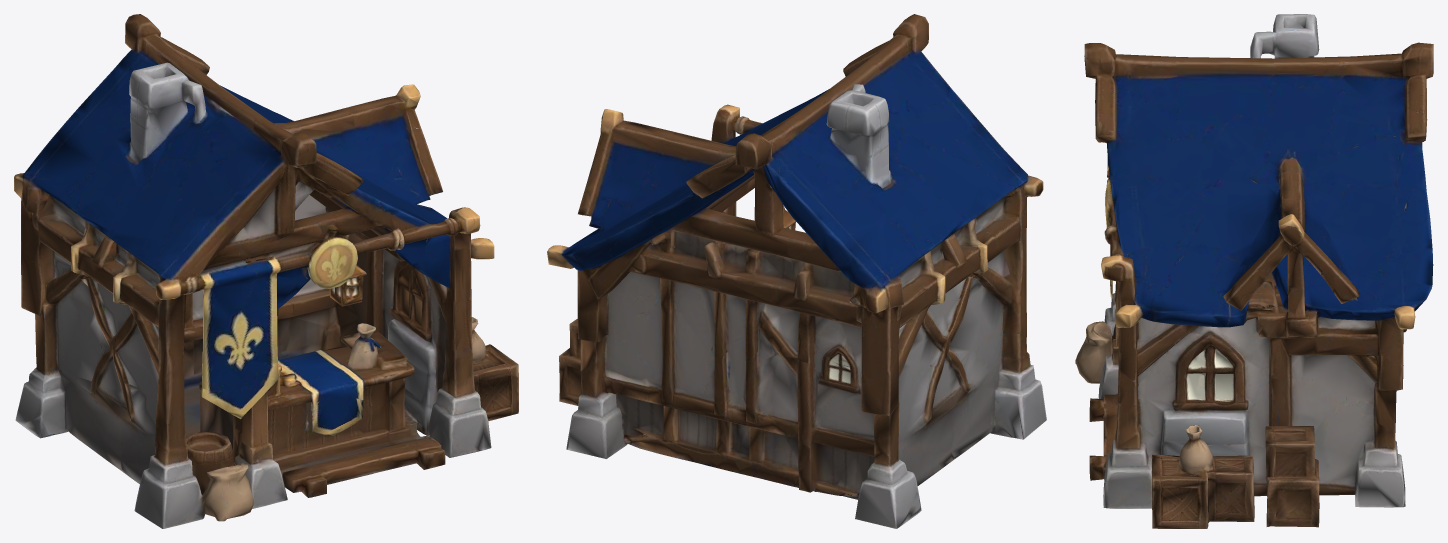
File: bank_4_5_6.glb
3 views of the same model, side by side, from view 1: azimuth 30°, elevation 25°; view 2: azimuth 150°, elevation 25°; view 3: azimuth 270°, elevation 25° (orthographic).
Bounding box in the file's own units: 1.9 × 1.73 × 1.52.
1 material, 1 textured.
